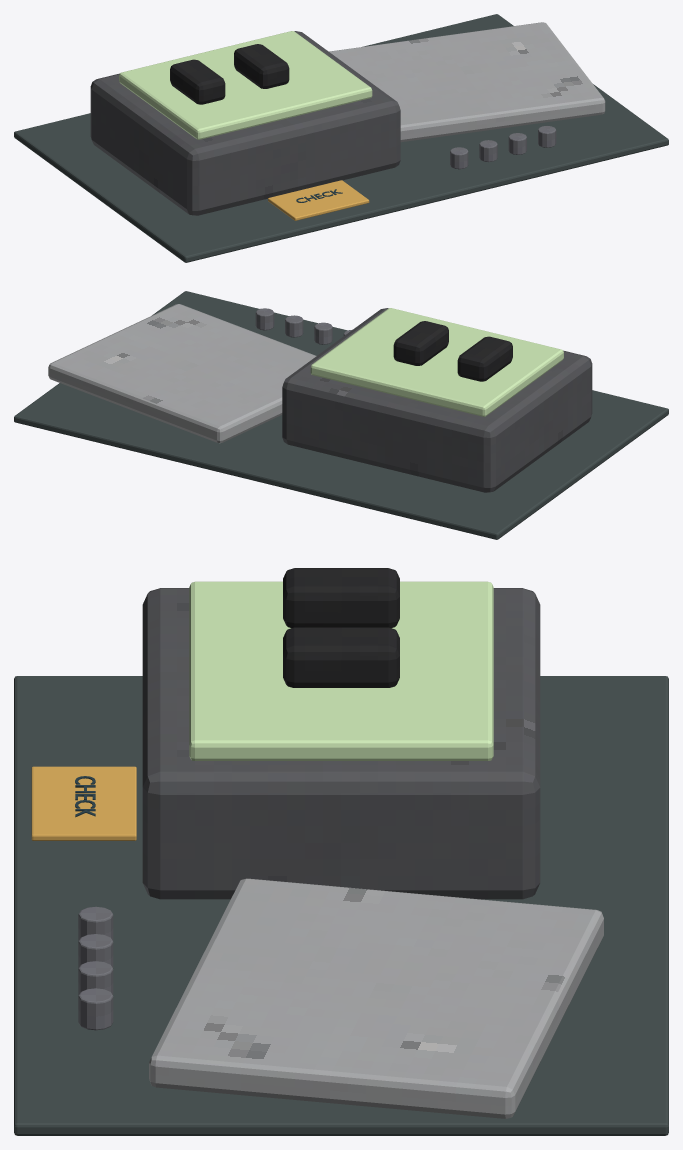
The model's file is lbd_eng_repair_assembly.glb.
The picture shows the model from 3 angles, top to bottom: view 1: azimuth 30°, elevation 25°; view 2: azimuth 150°, elevation 25°; view 3: azimuth 270°, elevation 25°; orthographic projection. The views are drawn at different scales.
Visible parts, largest first — view 1: eng_repair_assembly__service mat_003, eng_repair_assembly__open chassis_006, eng_repair_assembly__removed lid_018, eng_repair_assembly__circuit interior_009, eng_repair_assembly__repair tag_025, eng_repair_assembly__capacitor_012, eng_repair_assembly__capacitor_015, eng_repair_assembly__loose captive bolt_019, eng_repair_assembly__loose captive bolt_020, eng_repair_assembly__loose captive bolt_021, eng_repair_assembly__loose captive bolt_022; view 2: eng_repair_assembly__service mat_003, eng_repair_assembly__open chassis_006, eng_repair_assembly__removed lid_018, eng_repair_assembly__circuit interior_009, eng_repair_assembly__capacitor_012, eng_repair_assembly__capacitor_015, eng_repair_assembly__loose captive bolt_022, eng_repair_assembly__loose captive bolt_020, eng_repair_assembly__loose captive bolt_021; view 3: eng_repair_assembly__service mat_003, eng_repair_assembly__removed lid_018, eng_repair_assembly__open chassis_006, eng_repair_assembly__circuit interior_009, eng_repair_assembly__repair tag_025, eng_repair_assembly__capacitor_015, eng_repair_assembly__capacitor_012, eng_repair_assembly__loose captive bolt_022, eng_repair_assembly__loose captive bolt_019, eng_repair_assembly__loose captive bolt_020, eng_repair_assembly__loose captive bolt_021.
Part boxes in pixels (left/top/right/bottom): eng_repair_assembly__service mat_003: left=14, top=14, right=668, bottom=262; eng_repair_assembly__open chassis_006: left=90, top=31, right=400, bottom=215; eng_repair_assembly__removed lid_018: left=329, top=22, right=605, bottom=142; eng_repair_assembly__circuit interior_009: left=119, top=31, right=372, bottom=139; eng_repair_assembly__repair tag_025: left=268, top=180, right=369, bottom=220; eng_repair_assembly__capacitor_012: left=170, top=59, right=225, bottom=104; eng_repair_assembly__capacitor_015: left=234, top=44, right=289, bottom=88; eng_repair_assembly__loose captive bolt_019: left=450, top=147, right=468, bottom=169; eng_repair_assembly__loose captive bolt_020: left=479, top=140, right=497, bottom=161; eng_repair_assembly__loose captive bolt_021: left=508, top=133, right=526, bottom=154; eng_repair_assembly__loose captive bolt_022: left=538, top=126, right=556, bottom=147; eng_repair_assembly__service mat_003: left=14, top=291, right=668, bottom=539; eng_repair_assembly__open chassis_006: left=282, top=308, right=592, bottom=492; eng_repair_assembly__removed lid_018: left=48, top=304, right=316, bottom=443; eng_repair_assembly__circuit interior_009: left=310, top=308, right=563, bottom=416; eng_repair_assembly__capacitor_012: left=457, top=336, right=512, bottom=381; eng_repair_assembly__capacitor_015: left=393, top=321, right=448, bottom=365; eng_repair_assembly__loose captive bolt_022: left=255, top=308, right=274, bottom=330; eng_repair_assembly__loose captive bolt_020: left=314, top=322, right=332, bottom=344; eng_repair_assembly__loose captive bolt_021: left=285, top=315, right=303, bottom=337; eng_repair_assembly__service mat_003: left=14, top=676, right=668, bottom=1135; eng_repair_assembly__removed lid_018: left=149, top=878, right=603, bottom=1118; eng_repair_assembly__open chassis_006: left=142, top=588, right=540, bottom=899; eng_repair_assembly__circuit interior_009: left=189, top=581, right=493, bottom=760; eng_repair_assembly__repair tag_025: left=31, top=766, right=136, bottom=840; eng_repair_assembly__capacitor_015: left=283, top=627, right=399, bottom=687; eng_repair_assembly__capacitor_012: left=283, top=568, right=399, bottom=628; eng_repair_assembly__loose captive bolt_022: left=78, top=988, right=113, bottom=1030; eng_repair_assembly__loose captive bolt_019: left=78, top=906, right=113, bottom=940; eng_repair_assembly__loose captive bolt_020: left=78, top=934, right=113, bottom=967; eng_repair_assembly__loose captive bolt_021: left=78, top=961, right=113, bottom=995.
Size of the model in its own units: 0.9226 by 0.19 by 0.56.
Materials: 8 (4 with a texture image).
